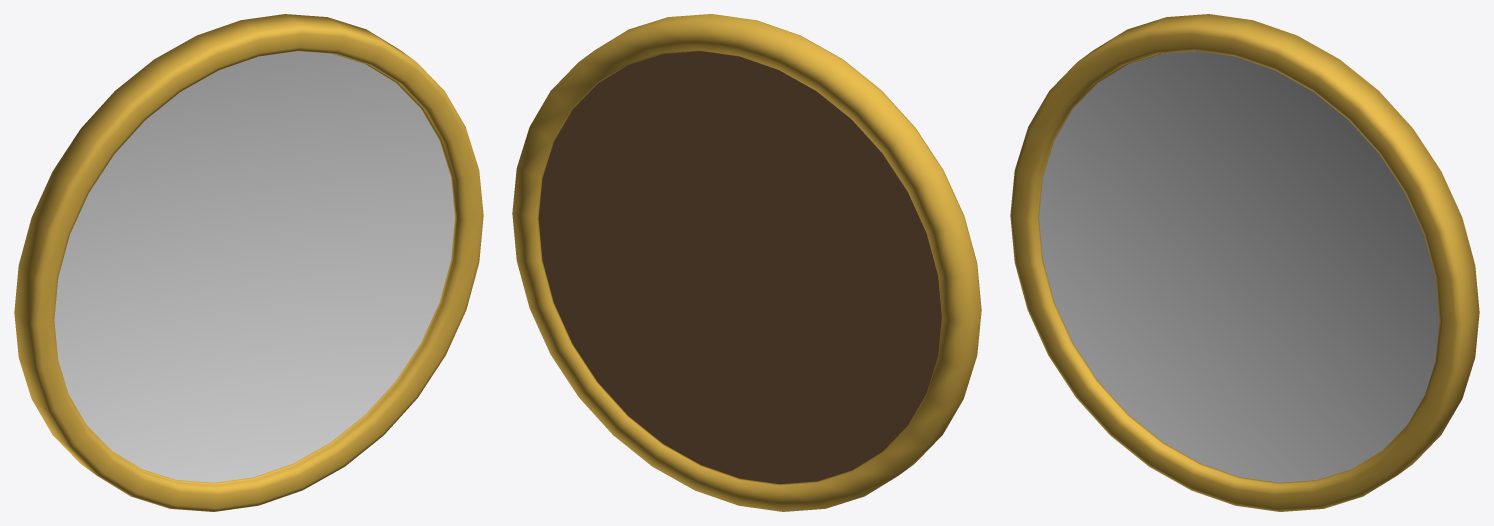
File: Mirror.fbx
3 renders of one model, left to right at view 1: azimuth 30°, elevation 25°; view 2: azimuth 150°, elevation 25°; view 3: azimuth 330°, elevation 25°, orthographic.
Visible parts, largest first — view 1: Cylinder; view 2: Cylinder; view 3: Cylinder.
Part boxes in pixels (x1=…): Cylinder: x1=14, y1=14, x2=483, y2=511; Cylinder: x1=512, y1=14, x2=981, y2=511; Cylinder: x1=1010, y1=14, x2=1479, y2=511.
Size of the model in its own units: 360 by 360 by 25.96.
